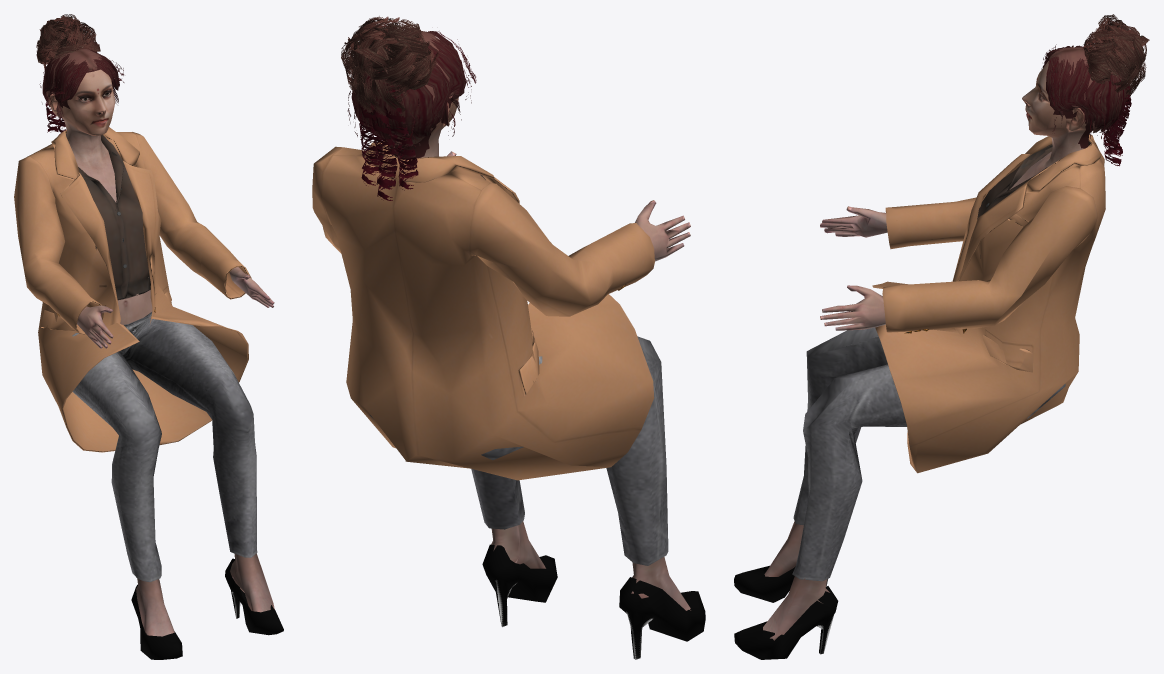
File: woman_coat_rider.glb
The picture shows the model from 3 angles, left to right: view 1: azimuth 30°, elevation 25°; view 2: azimuth 150°, elevation 25°; view 3: azimuth 270°, elevation 25°; orthographic projection. The views are drawn at different scales.
Parts seen in each view (by area): view 1: geometry_0; view 2: geometry_0; view 3: geometry_0.
Boxes of the visible parts, left/top/right/bottom form: geometry_0: left=14, top=14, right=283, bottom=659; geometry_0: left=312, top=16, right=705, bottom=659; geometry_0: left=734, top=14, right=1149, bottom=659.
Bounding box in the file's own units: 0.4917 × 1.3 × 0.8085.
Materials: 1 (1 with a texture image).
